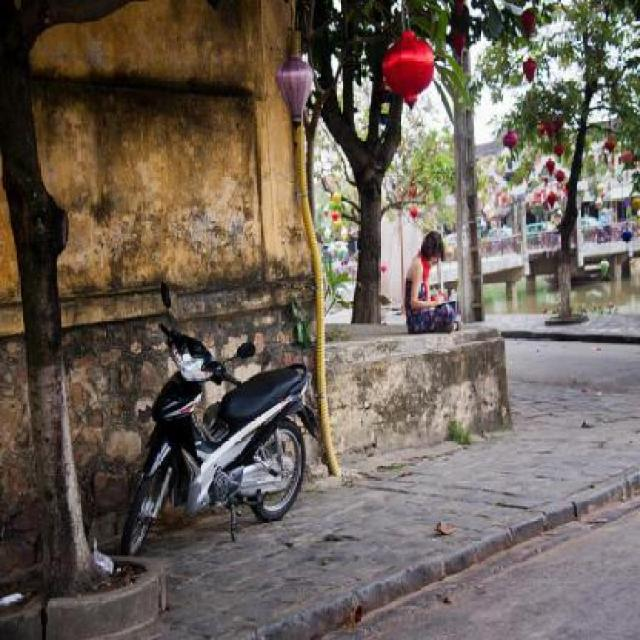Person: (403, 230, 462, 332)
